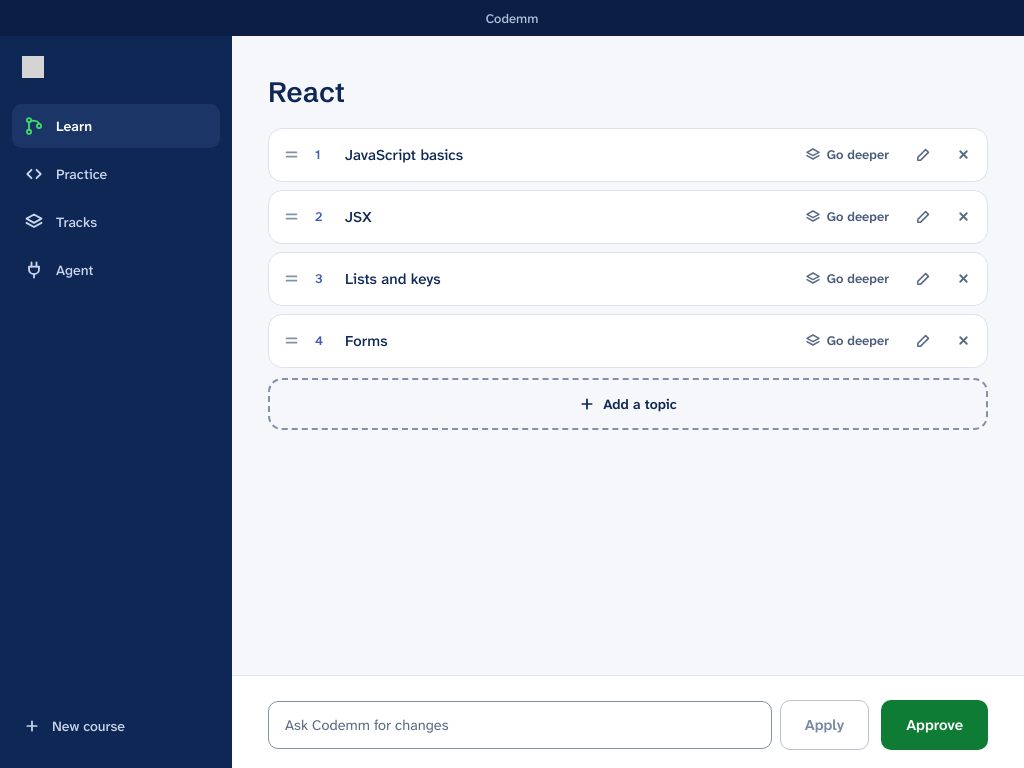
Scenario: course editor › keeps the learner's title on the topic it splits, even when the agent renames it
This screenshot has width=1024, height=768.
Expected: the heading "React" is shown, [268, 75, 345, 109]
Click the button named "Rename JSX" at [923, 217], box [907, 201, 939, 233]
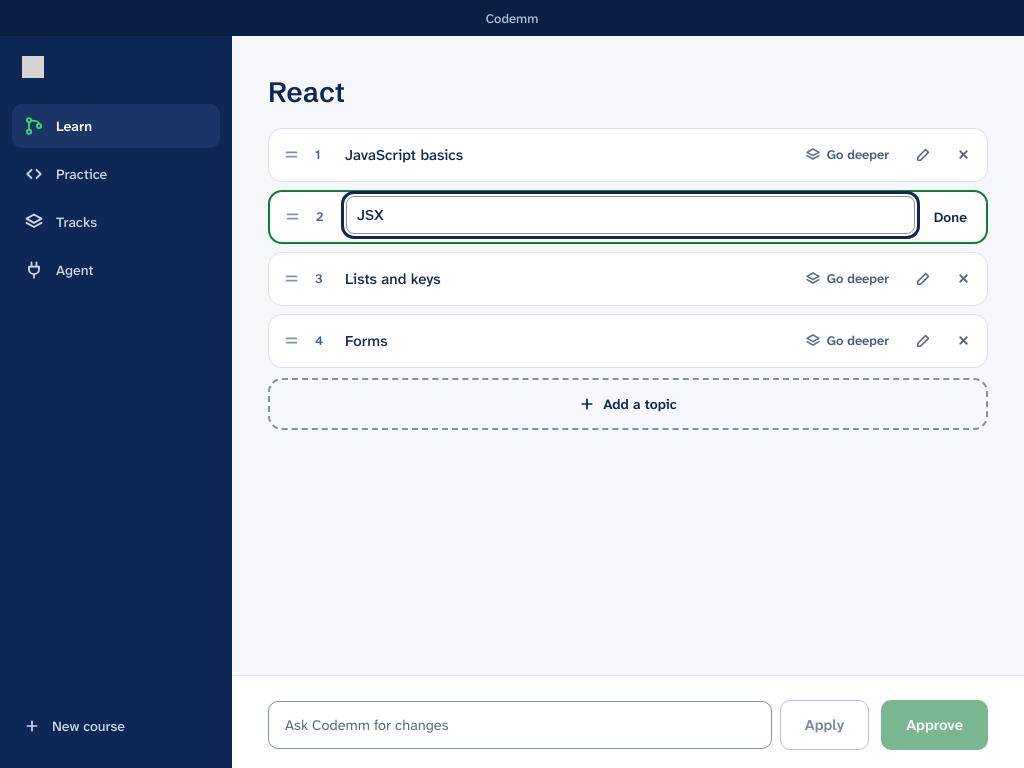
Replace the text in the field named "Topic name" with "JSX basics" at [630, 215], box [346, 196, 915, 234]
Then press Enter
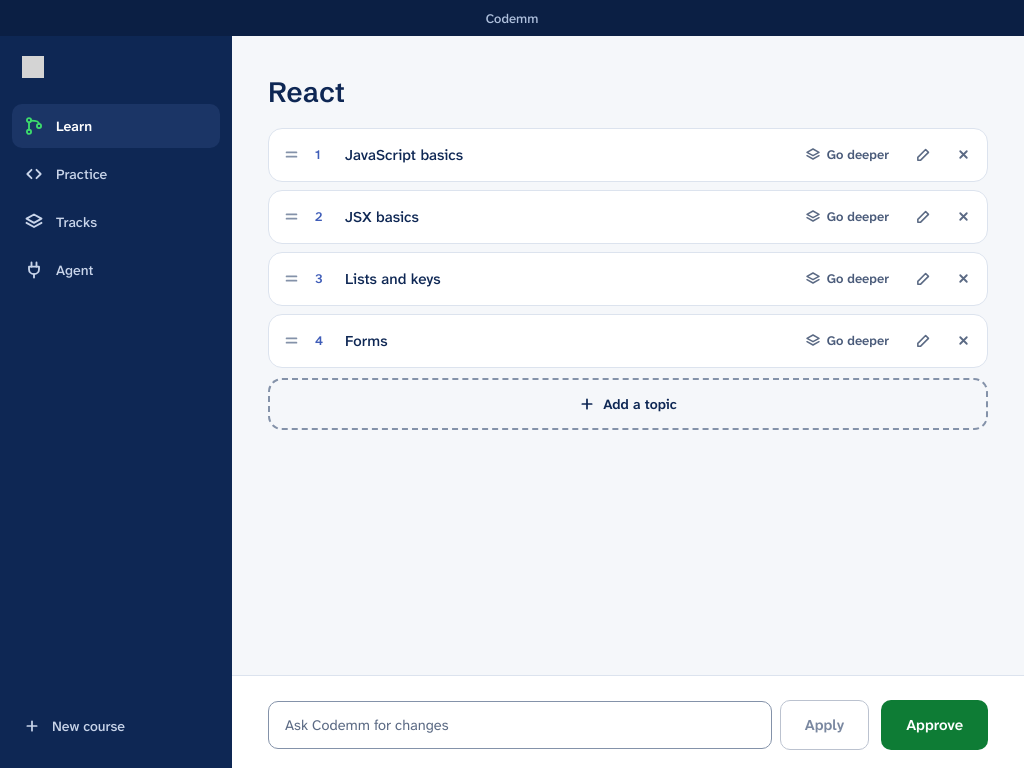
Click the button with aria-label "Go deeper on JSX basics" at [847, 217], box [795, 201, 899, 233]
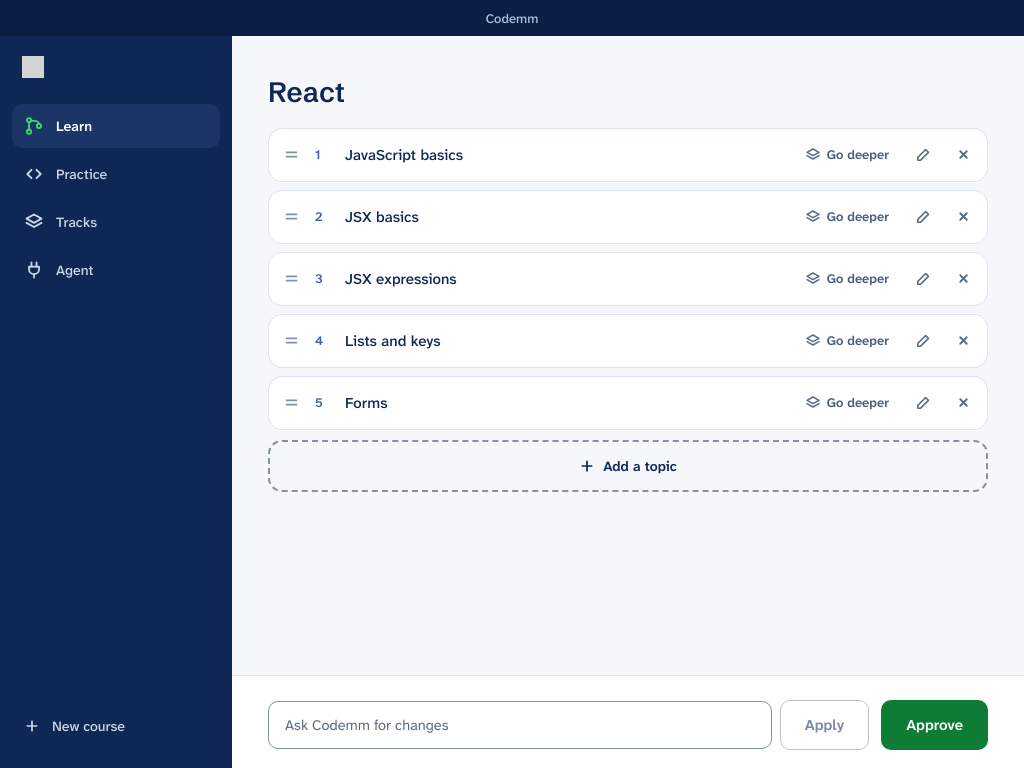
Result: the text "JSX basics" is shown at [345, 207, 419, 227]
Result: the list item "JSX expressions" is shown at [268, 252, 988, 306]
